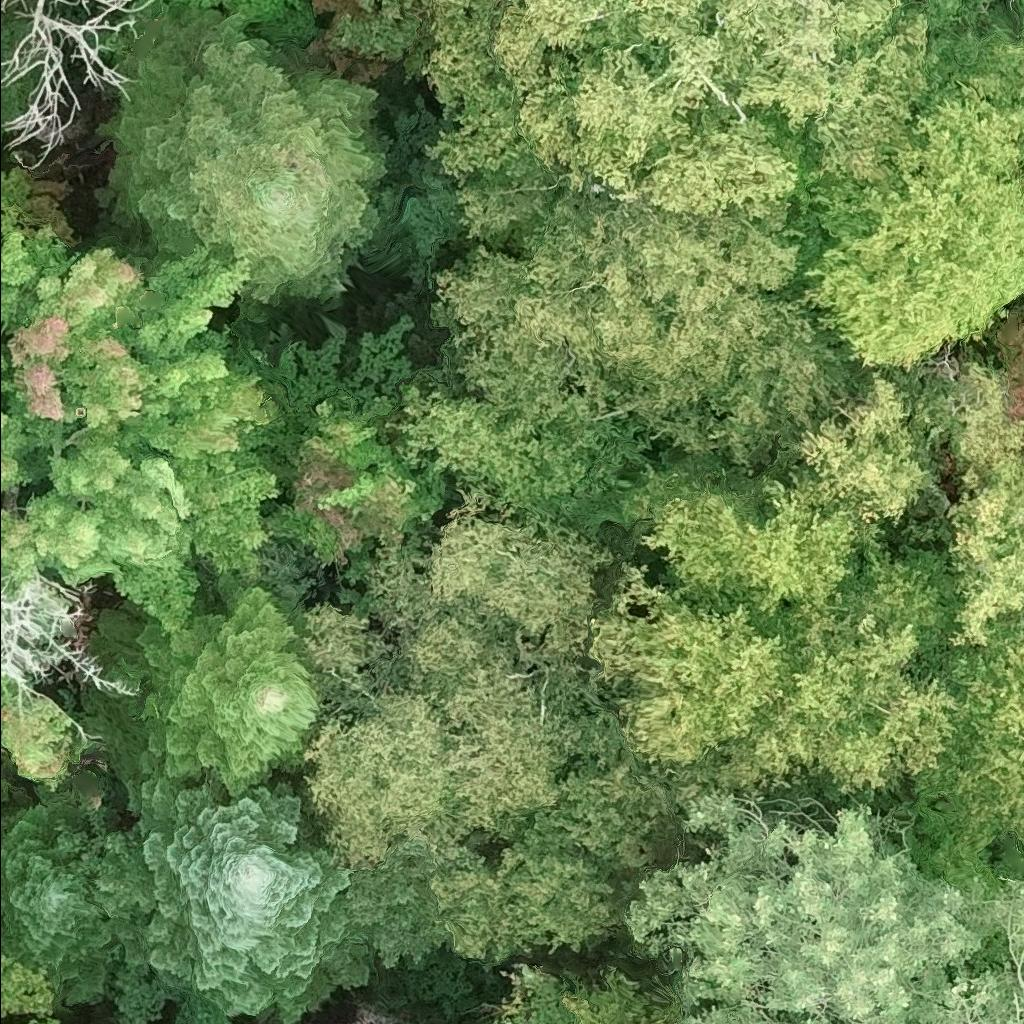crown: (0, 171, 280, 789), (328, 0, 999, 219), (432, 171, 877, 475), (627, 792, 984, 1023), (112, 2, 389, 298), (94, 768, 370, 1023), (370, 545, 607, 838), (797, 71, 1023, 371), (722, 543, 955, 791), (252, 313, 445, 579), (125, 588, 324, 812), (299, 603, 461, 871), (385, 382, 643, 539), (594, 565, 782, 765), (426, 495, 614, 667), (899, 610, 1023, 866), (642, 481, 855, 614), (0, 804, 125, 1005), (552, 714, 695, 867), (0, 0, 133, 157), (871, 346, 1023, 475), (803, 372, 931, 523), (489, 810, 617, 949), (907, 880, 1023, 1023), (932, 5, 1023, 184), (944, 448, 1023, 647), (345, 836, 452, 968), (427, 818, 513, 959), (497, 961, 577, 1023), (0, 953, 53, 1014), (167, 0, 303, 17), (679, 1009, 781, 1023), (0, 810, 32, 840), (346, 1013, 385, 1023), (27, 1019, 55, 1023), (800, 1019, 822, 1023), (0, 0, 6, 13)
